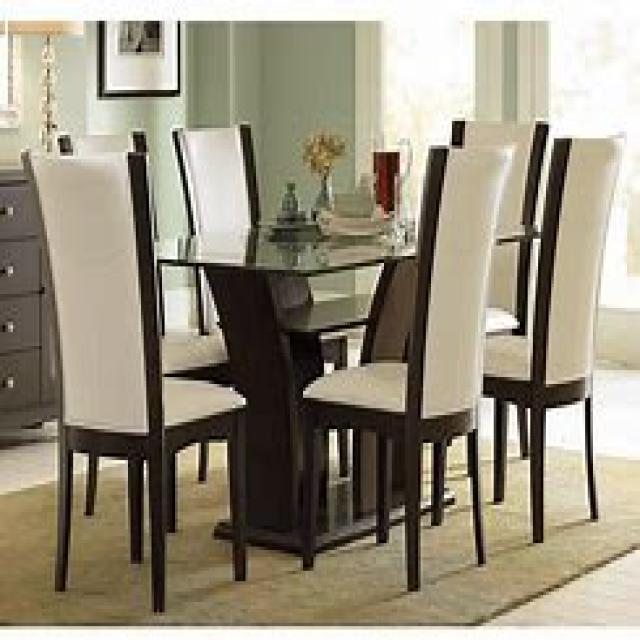chair: (21, 145, 248, 612), (298, 138, 514, 592)
table: (152, 214, 540, 560)
